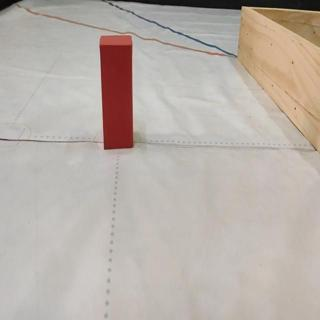redbox: (99, 35, 134, 150)
